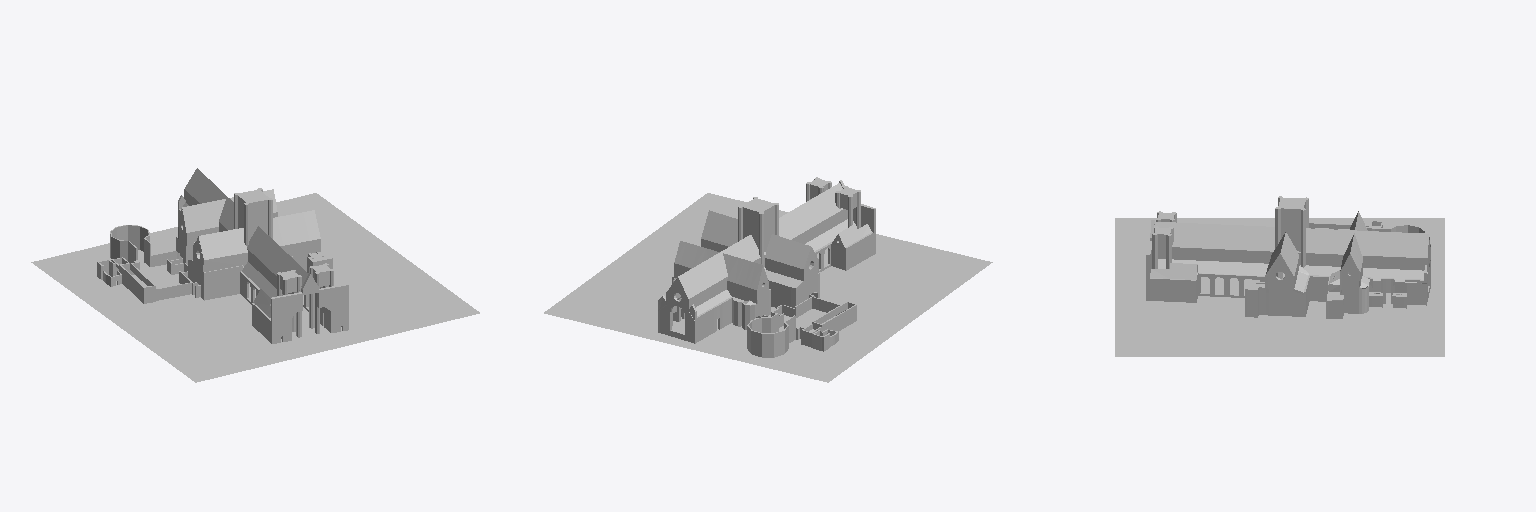
File: lavaland.obj
3 renders of one model, left to right at view 1: azimuth 30°, elevation 25°; view 2: azimuth 150°, elevation 25°; view 3: azimuth 270°, elevation 25°, orthographic.
Visible parts, largest first — view 1: GroundPlane_Plane.008, ChurchWalls1F_Plane.002, LibraryWalls_Plane.005, ChurchRoof2FSolid_Plane.012, ChurchRoofCross2FSolid_Plane.007, TowerFront_Cube.001, ChurchRoofCross2FSolid.001_Plane.004, TowerCenter_Cube.002, TowerCenterPillars_Cube; view 2: GroundPlane_Plane.008, ChurchWalls1F_Plane.002, ChurchRoof2FSolid_Plane.012, LibraryWalls_Plane.005, ChurchRoofCross2FSolid_Plane.007, ChurchRoofCross2FSolid.001_Plane.004, TowerCenter_Cube.002, TowerFront_Cube.001, TowerCenterPillars_Cube; view 3: GroundPlane_Plane.008, ChurchRoof2FSolid_Plane.012, ChurchWalls1F_Plane.002, ChurchRoofCross2FSolid_Plane.007, ChurchRoofCross2FSolid.001_Plane.004, TowerCenter_Cube.002, TowerFront_Cube.001, TowerCenterPillars_Cube, LibraryWalls_Plane.005, ChurchRoofSide_Plane.010, ChurchFloor1F_Plane.
Boxes of the visible parts, x1,y1,x2,y2 form: GroundPlane_Plane.008: [31, 193, 479, 382]; ChurchWalls1F_Plane.002: [162, 195, 348, 343]; LibraryWalls_Plane.005: [97, 225, 192, 303]; ChurchRoof2FSolid_Plane.012: [181, 168, 328, 297]; ChurchRoofCross2FSolid_Plane.007: [188, 210, 329, 271]; TowerFront_Cube.001: [277, 263, 333, 337]; ChurchRoofCross2FSolid.001_Plane.004: [178, 189, 277, 245]; TowerCenter_Cube.002: [237, 190, 269, 240]; TowerCenterPillars_Cube: [234, 188, 272, 246]; GroundPlane_Plane.008: [544, 193, 992, 382]; ChurchWalls1F_Plane.002: [658, 180, 875, 343]; ChurchRoof2FSolid_Plane.012: [658, 183, 854, 320]; LibraryWalls_Plane.005: [747, 296, 856, 357]; ChurchRoofCross2FSolid_Plane.007: [701, 210, 818, 289]; ChurchRoofCross2FSolid.001_Plane.004: [673, 241, 768, 304]; TowerCenter_Cube.002: [741, 198, 774, 251]; TowerFront_Cube.001: [806, 177, 860, 228]; TowerCenterPillars_Cube: [738, 197, 778, 265]; GroundPlane_Plane.008: [1115, 218, 1444, 356]; ChurchRoof2FSolid_Plane.012: [1154, 222, 1430, 296]; ChurchWalls1F_Plane.002: [1146, 220, 1430, 318]; ChurchRoofCross2FSolid_Plane.007: [1249, 232, 1308, 294]; ChurchRoofCross2FSolid.001_Plane.004: [1327, 211, 1369, 300]; TowerCenter_Cube.002: [1278, 197, 1305, 251]; TowerFront_Cube.001: [1152, 211, 1176, 268]; TowerCenterPillars_Cube: [1275, 196, 1308, 278]; LibraryWalls_Plane.005: [1309, 221, 1425, 233]; ChurchRoofSide_Plane.010: [1150, 263, 1198, 279]; ChurchFloor1F_Plane: [1201, 273, 1431, 304].
Bounding box in the file's own units: 843 × 307 × 843.